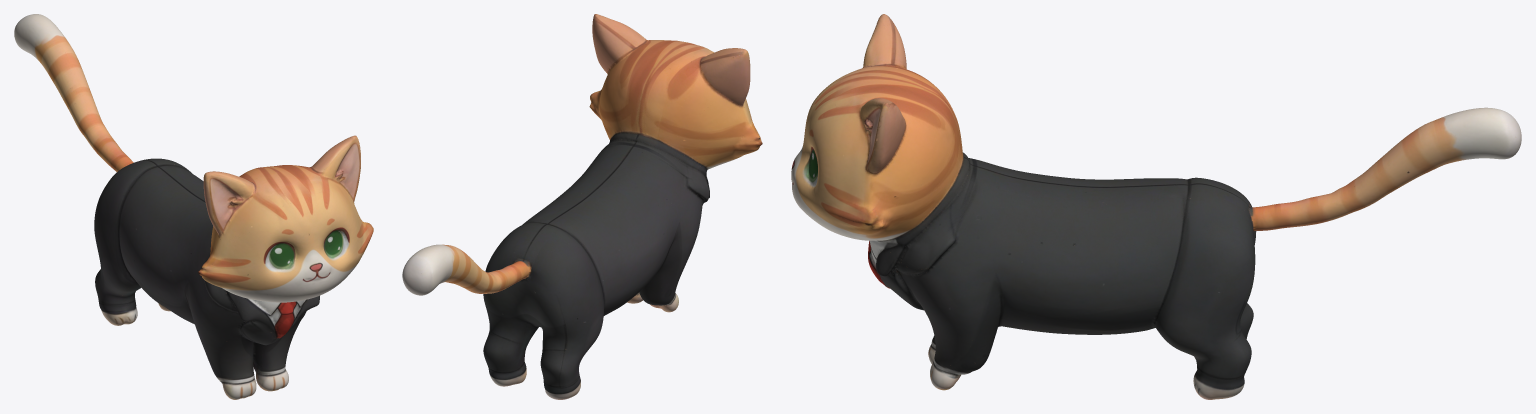
File: pet_cat_suit_stand.glb
3 renders of one model, left to right at view 1: azimuth 30°, elevation 25°; view 2: azimuth 150°, elevation 25°; view 3: azimuth 270°, elevation 25°, orthographic. The views are drawn at different scales.
Size of the model in its own units: 0.6788 by 0.9676 by 2.
1 material, 1 textured.
